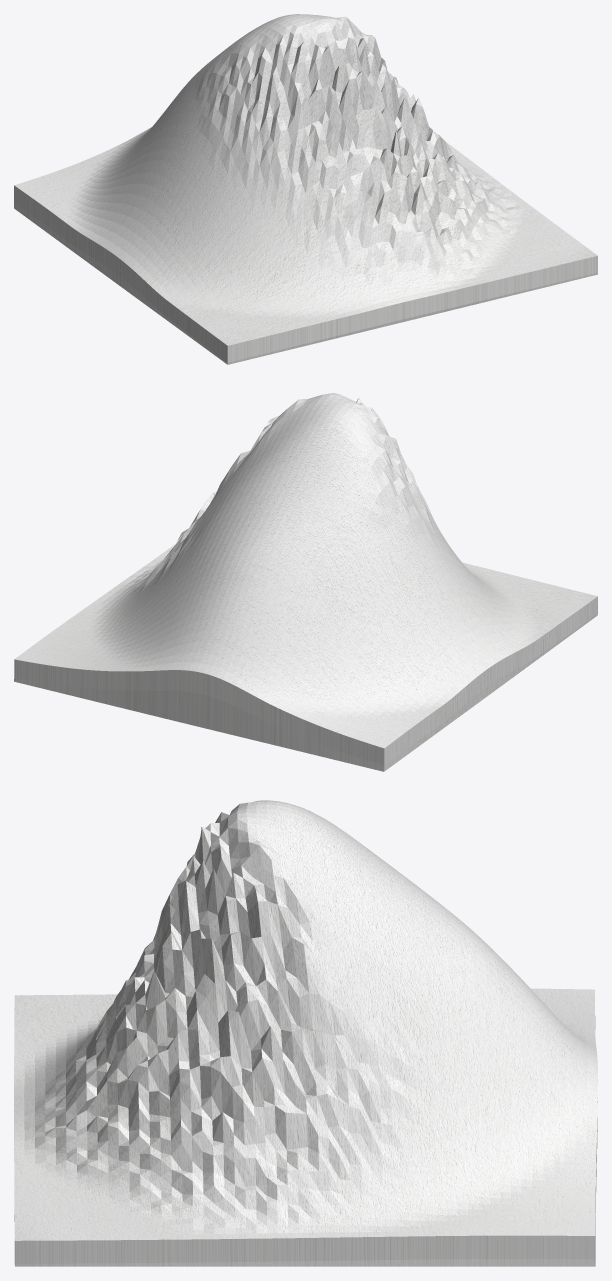
3 renders of one model, top to bottom at view 1: azimuth 30°, elevation 25°; view 2: azimuth 150°, elevation 25°; view 3: azimuth 270°, elevation 25°, orthographic. The views are drawn at different scales.
Parts seen in each view (by area): view 1: Plane; view 2: Plane; view 3: Plane.
Part boxes in pixels (x1,y1,x2,y2): Plane: [14, 14, 597, 364]; Plane: [14, 393, 597, 771]; Plane: [14, 800, 597, 1266].
Size of the model in its own units: 6.01 by 3.7 by 6.04.
1 material, 1 textured.
